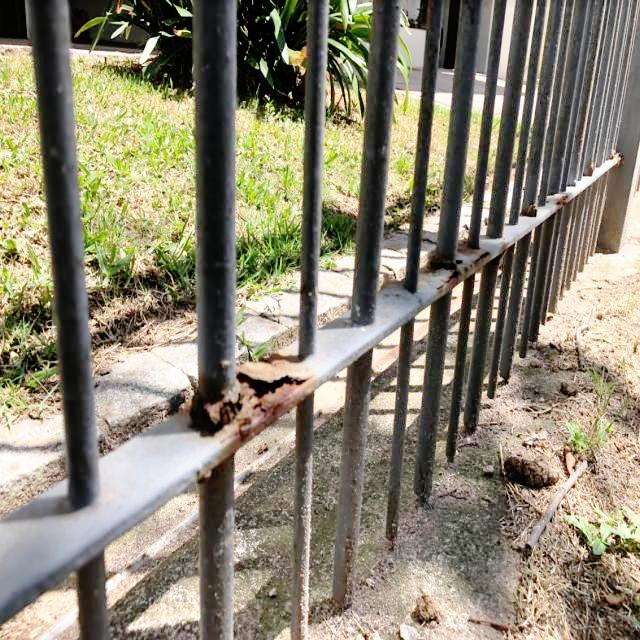Corrosion: (186, 351, 321, 443), (422, 234, 492, 293), (550, 188, 572, 210), (612, 150, 624, 164), (588, 158, 594, 181)
